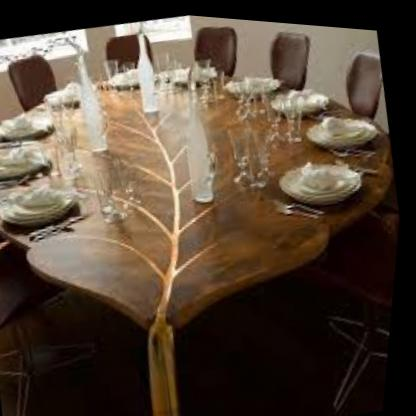Dining Table: (0, 4, 416, 416)
